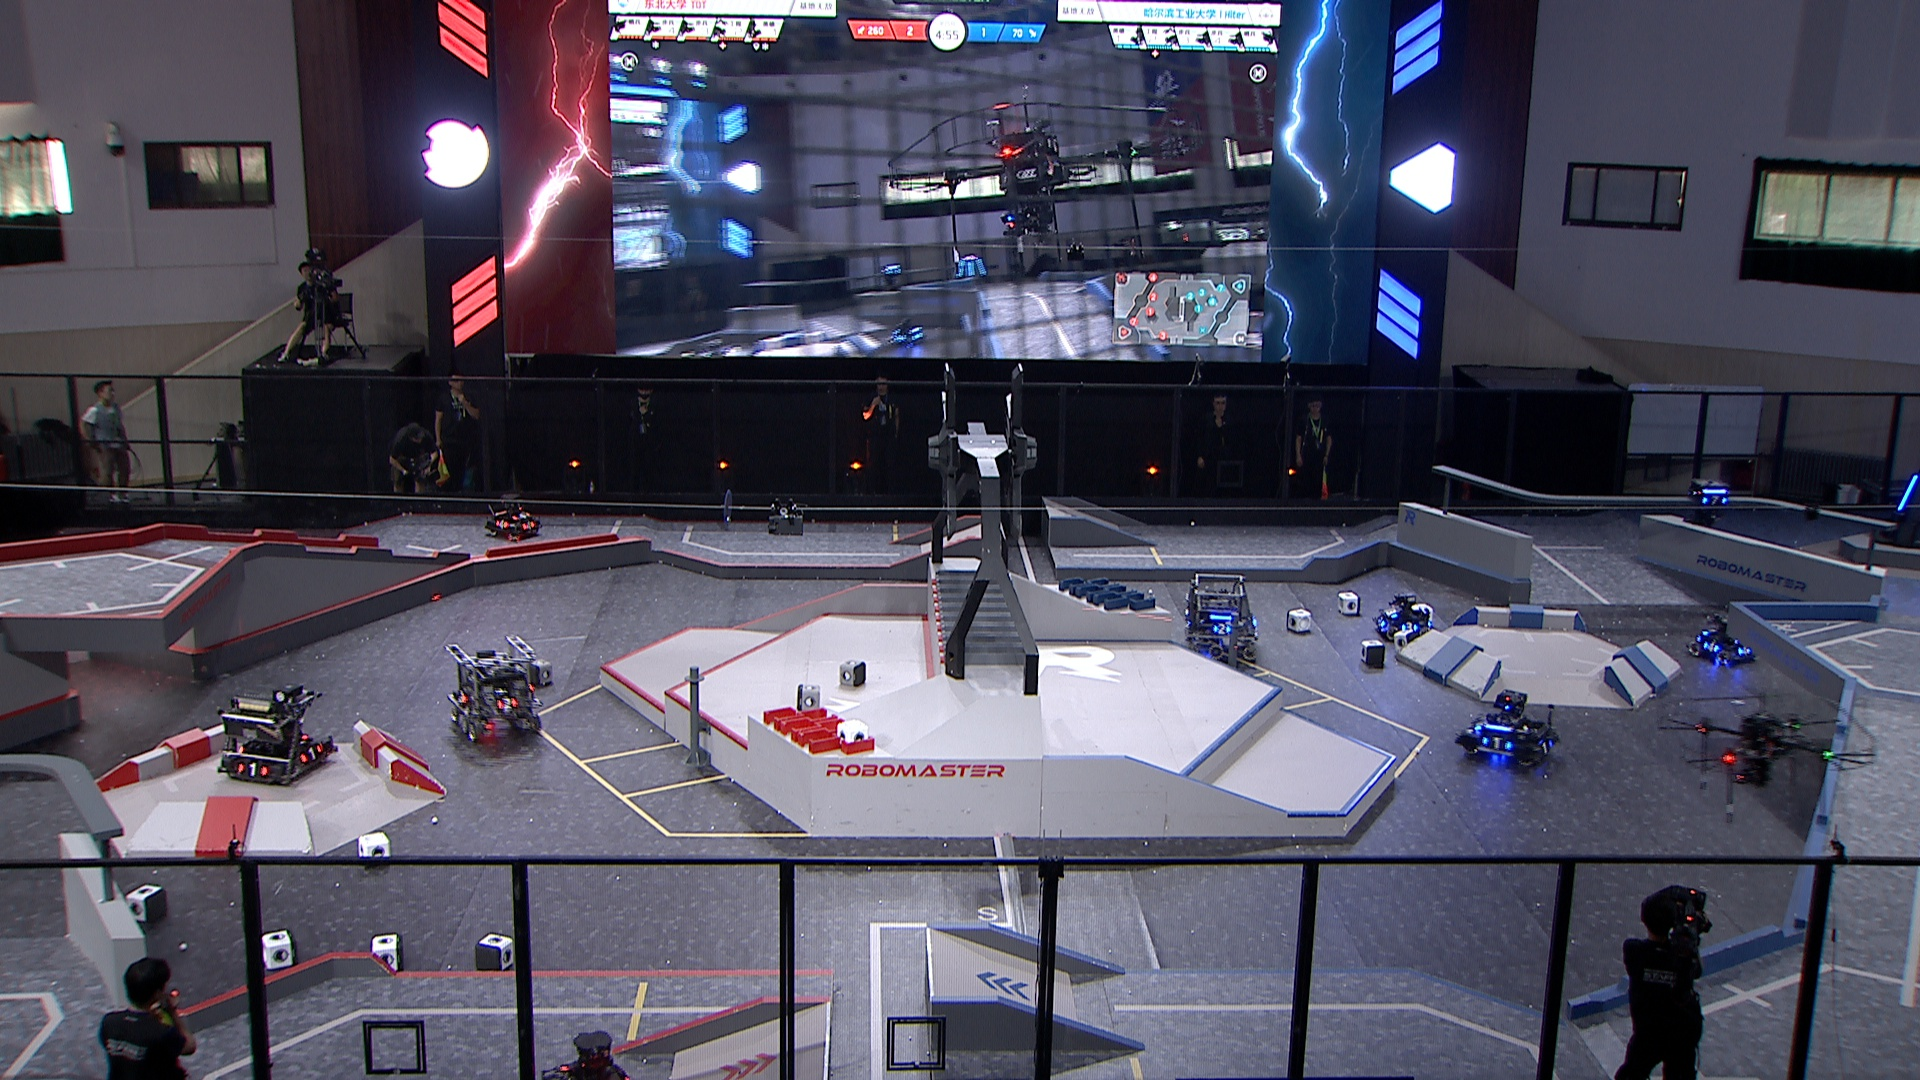armor: (1894, 475, 1917, 512), (237, 761, 272, 779), (1481, 733, 1513, 750), (301, 744, 324, 764), (1704, 493, 1726, 506), (496, 698, 518, 711), (1702, 640, 1721, 655), (455, 688, 469, 707), (1212, 624, 1232, 637), (1399, 621, 1415, 636), (1536, 738, 1552, 752), (1385, 604, 1400, 617), (493, 517, 509, 527), (514, 510, 531, 520), (1375, 616, 1387, 629), (522, 520, 537, 529), (1702, 626, 1717, 636), (1737, 642, 1750, 651)
base: (1873, 458, 1920, 556)
car: (210, 676, 334, 787), (442, 629, 556, 746), (1457, 683, 1556, 765), (1179, 568, 1259, 661), (534, 1031, 636, 1080), (1370, 584, 1437, 645), (1691, 607, 1759, 666), (483, 493, 541, 542)
ignore: (887, 319, 924, 351), (949, 253, 984, 281), (880, 258, 903, 285)
watcher: (1687, 473, 1733, 529)
